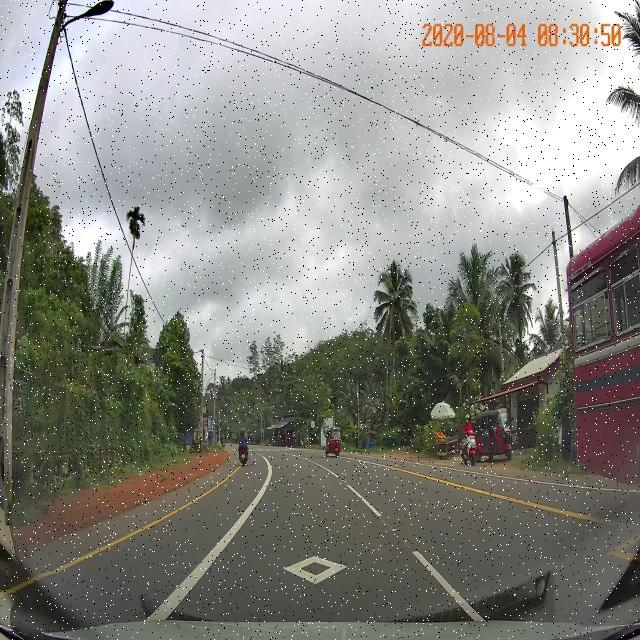diamond: (157, 529, 476, 604)
